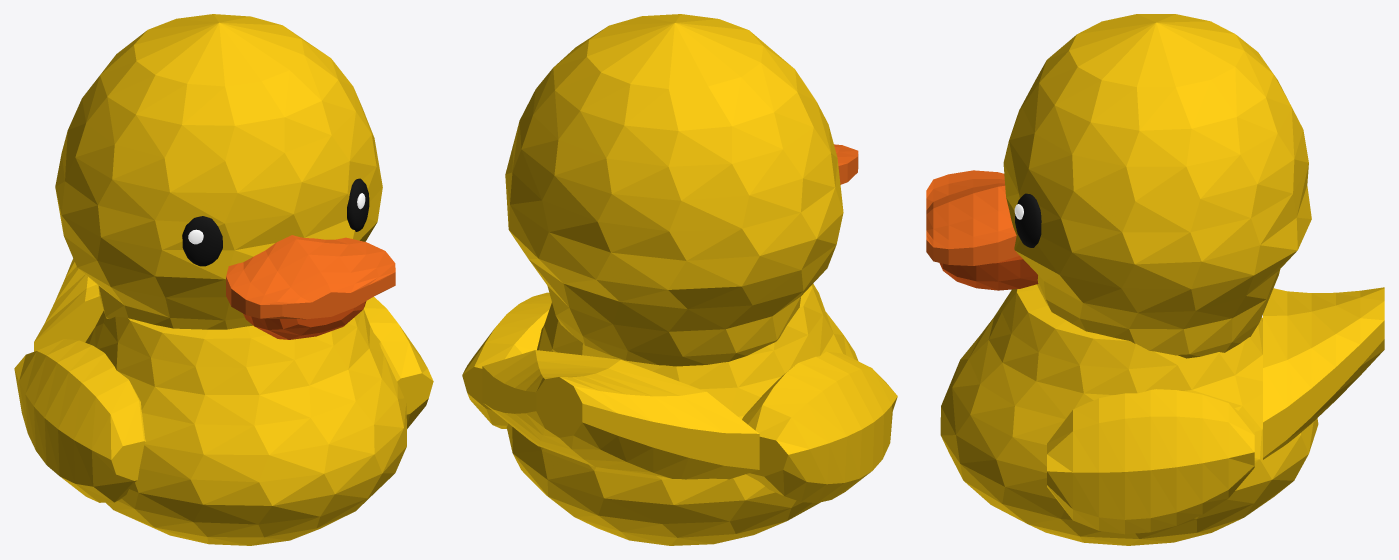
The model's file is duck.glb.
The picture shows the model from 3 angles, left to right: view 1: azimuth 30°, elevation 25°; view 2: azimuth 150°, elevation 25°; view 3: azimuth 270°, elevation 25°; orthographic projection. The views are drawn at different scales.
Parts seen in each view (by area): view 1: head, body, wing_R, beak_upper, wing_L, tail, beak_lower, eye_R, eye_L; view 2: head, body, tail, wing_R, wing_L, beak_upper; view 3: head, body, wing_L, tail, beak_upper, beak_lower, eye_L.
Part boxes in pixels (x1=…): head: x1=55, y1=14, x2=382, y2=329; body: x1=85, y1=309, x2=406, y2=545; wing_R: x1=14, y1=339, x2=145, y2=502; beak_upper: x1=226, y1=235, x2=395, y2=319; wing_L: x1=364, y1=296, x2=433, y2=428; tail: x1=34, y1=258, x2=103, y2=351; beak_lower: x1=243, y1=301, x2=366, y2=339; eye_R: x1=182, y1=216, x2=222, y2=266; eye_L: x1=347, y1=178, x2=369, y2=231; head: x1=505, y1=14, x2=843, y2=366; body: x1=506, y1=284, x2=858, y2=545; tail: x1=482, y1=350, x2=759, y2=479; wing_R: x1=742, y1=351, x2=897, y2=502; wing_L: x1=462, y1=292, x2=551, y2=428; beak_upper: x1=834, y1=144, x2=858, y2=184; head: x1=1003, y1=14, x2=1311, y2=358; body: x1=940, y1=284, x2=1318, y2=545; wing_L: x1=1047, y1=389, x2=1254, y2=534; tail: x1=1263, y1=287, x2=1384, y2=459; beak_upper: x1=926, y1=170, x2=1019, y2=265; beak_lower: x1=939, y1=256, x2=1038, y2=290; eye_L: x1=1015, y1=193, x2=1041, y2=247.
Bounding box in the file's own units: 0.0759 × 0.1 × 0.0828.
